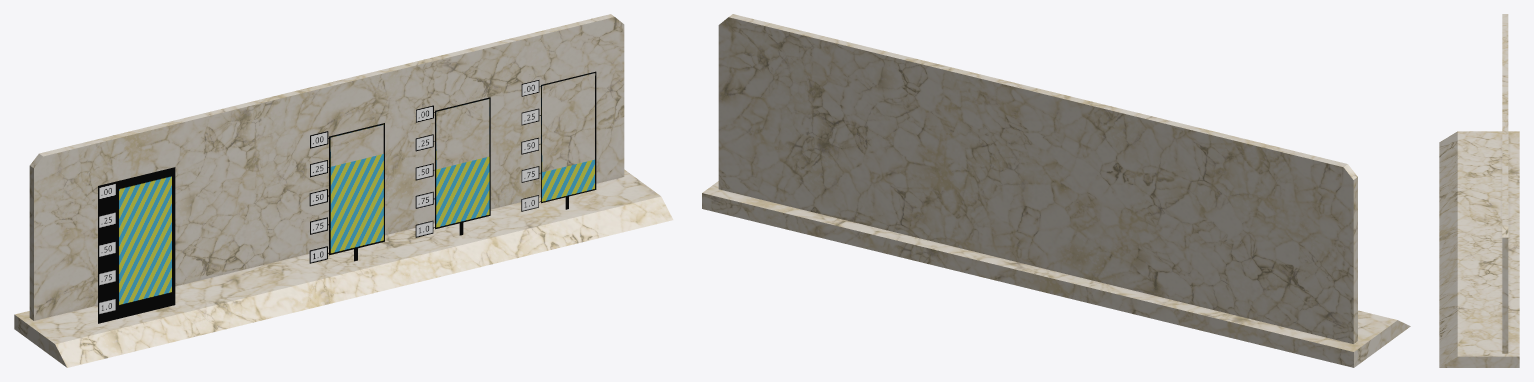
File: AlphaMask.gltf
3 views of the same model, side by side, from view 1: azimuth 30°, elevation 25°; view 2: azimuth 150°, elevation 25°; view 3: azimuth 270°, elevation 25° (orthographic). The views are drawn at different scales.
Visible parts, largest first — view 1: Bed, TestOpaque, TestCutoff25, TestCutoffDefault, TestCutoff75; view 2: Bed; view 3: Bed.
Part boxes in pixels (left/top/right/bottom): Bed: left=14, top=14, right=673, bottom=367; TestOpaque: left=98, top=167, right=175, bottom=323; TestCutoff25: left=309, top=123, right=384, bottom=263; TestCutoffDefault: left=415, top=97, right=490, bottom=237; TestCutoff75: left=521, top=71, right=596, bottom=211; Bed: left=702, top=14, right=1410, bottom=367; Bed: left=1439, top=14, right=1519, bottom=367.
Bounding box in the file's own units: 8.6 × 2.4 × 1.3.
5 materials, 5 textured.
